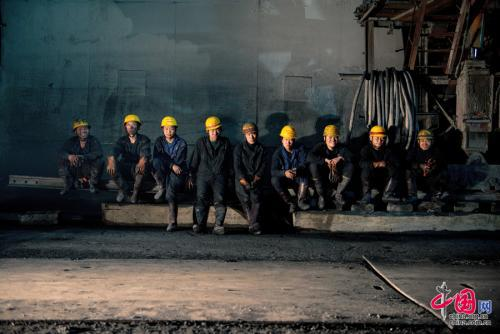helmet: (72, 114, 92, 144), (367, 123, 389, 150), (205, 113, 224, 144), (280, 123, 299, 154), (158, 114, 178, 143), (322, 122, 341, 151), (240, 121, 260, 147), (415, 127, 433, 154), (124, 113, 141, 140)
